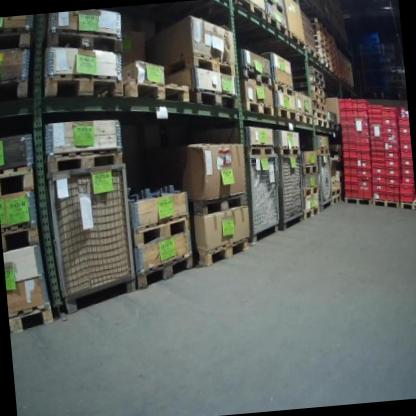pallet: (44, 22, 125, 62), (43, 68, 125, 104), (157, 50, 238, 85), (122, 73, 193, 110), (45, 145, 126, 177), (133, 253, 198, 292), (192, 235, 255, 269), (187, 189, 254, 220), (132, 214, 194, 247), (8, 299, 60, 336), (0, 219, 45, 254), (189, 83, 240, 113), (0, 164, 38, 198), (237, 62, 274, 92), (232, 0, 268, 27), (0, 24, 33, 53), (240, 95, 276, 120), (0, 76, 32, 102), (265, 10, 289, 39), (273, 102, 299, 124), (272, 77, 295, 100), (371, 196, 400, 212), (343, 194, 373, 209), (248, 144, 277, 159), (275, 143, 302, 159), (287, 30, 306, 52), (263, 0, 285, 17), (304, 44, 322, 64), (302, 204, 320, 221), (301, 185, 320, 200), (301, 163, 320, 177), (296, 112, 313, 127), (399, 199, 416, 212), (317, 119, 330, 131), (331, 194, 343, 206), (328, 121, 340, 133), (314, 96, 326, 107), (318, 147, 331, 157), (330, 186, 342, 196), (316, 113, 329, 122), (315, 80, 326, 90), (321, 54, 331, 65), (318, 41, 329, 51), (315, 105, 328, 113), (314, 89, 325, 98), (324, 62, 333, 71), (320, 49, 329, 58), (314, 72, 322, 81)
small_load_carrier: (357, 175, 373, 200), (399, 191, 415, 204), (381, 105, 397, 117), (357, 169, 373, 181), (337, 98, 353, 110), (401, 181, 415, 194), (372, 181, 386, 194), (356, 125, 370, 138), (367, 136, 385, 146), (341, 124, 356, 136), (384, 140, 400, 151), (385, 183, 401, 194), (381, 116, 398, 126), (382, 124, 399, 134), (385, 166, 402, 176), (355, 134, 369, 146), (357, 159, 372, 170), (343, 158, 358, 169), (385, 149, 401, 159), (385, 157, 401, 167), (353, 98, 369, 108), (355, 144, 372, 153), (370, 148, 385, 158), (339, 109, 354, 119), (383, 133, 399, 142), (353, 110, 369, 119), (344, 182, 360, 191), (400, 157, 413, 168), (356, 151, 369, 162), (372, 166, 386, 176), (343, 141, 357, 151), (343, 150, 357, 160), (385, 175, 400, 184), (344, 174, 359, 183), (386, 193, 398, 204), (399, 134, 411, 145), (400, 167, 413, 177), (401, 174, 414, 184), (399, 142, 412, 152), (397, 126, 410, 136), (367, 104, 383, 112), (344, 190, 360, 198), (373, 175, 386, 184), (367, 111, 383, 118), (341, 118, 355, 126), (342, 134, 356, 142), (344, 168, 358, 176), (400, 151, 412, 160), (369, 126, 382, 134), (398, 118, 409, 127), (356, 117, 367, 126), (371, 160, 385, 167), (373, 193, 387, 200), (368, 117, 383, 123), (368, 122, 383, 128), (370, 144, 385, 150), (371, 156, 385, 161), (367, 133, 383, 137)
stillage: (44, 159, 142, 317), (234, 145, 288, 247), (274, 147, 314, 233), (311, 147, 339, 215)
